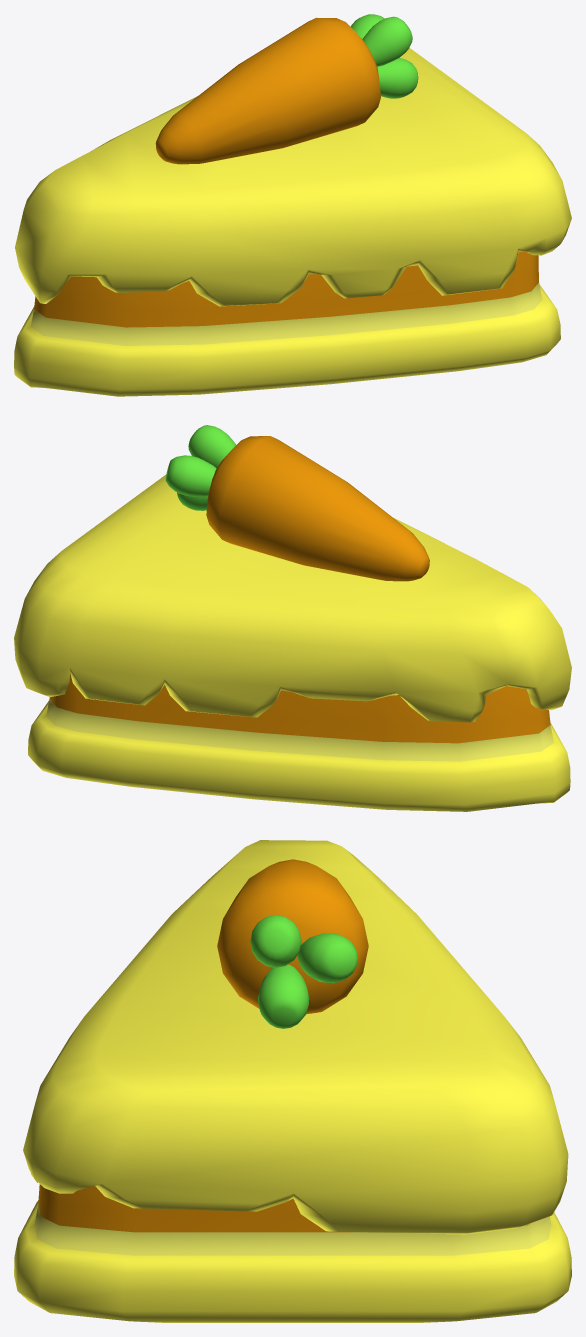
Rendered from SM_Carrot_Cake.fbx.
3 renders of one model, top to bottom at view 1: azimuth 30°, elevation 25°; view 2: azimuth 150°, elevation 25°; view 3: azimuth 270°, elevation 25°, orthographic. The views are drawn at different scales.
Visible parts, largest first — view 1: SM_Carrot_Cake; view 2: SM_Carrot_Cake; view 3: SM_Carrot_Cake.
Part boxes in pixels (box(x1,y1,x2,y2)): SM_Carrot_Cake: box(14, 14, 571, 396); SM_Carrot_Cake: box(14, 425, 571, 811); SM_Carrot_Cake: box(14, 840, 571, 1322).
Size of the model in its own units: 119 by 67.69 by 94.99.
